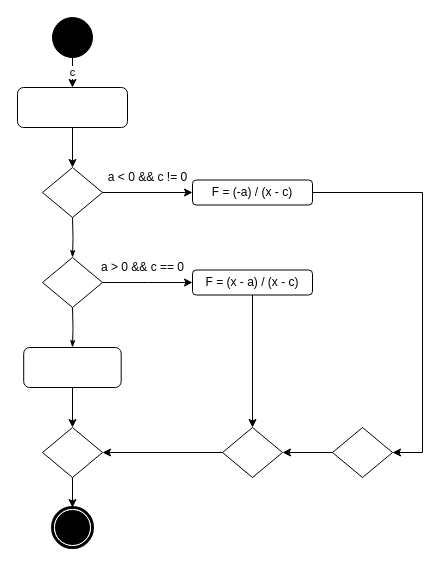
Image size: 448x565. Some labels were removed from this diagram. The shapes that lost their labels are listed below. From the top down, each one's box as (x1, y1, x2, y2) in pixels, then its label:
(16, 86, 128, 128): Ввід a,b.c,x
(23, 346, 121, 388): F = a * (x + c)
